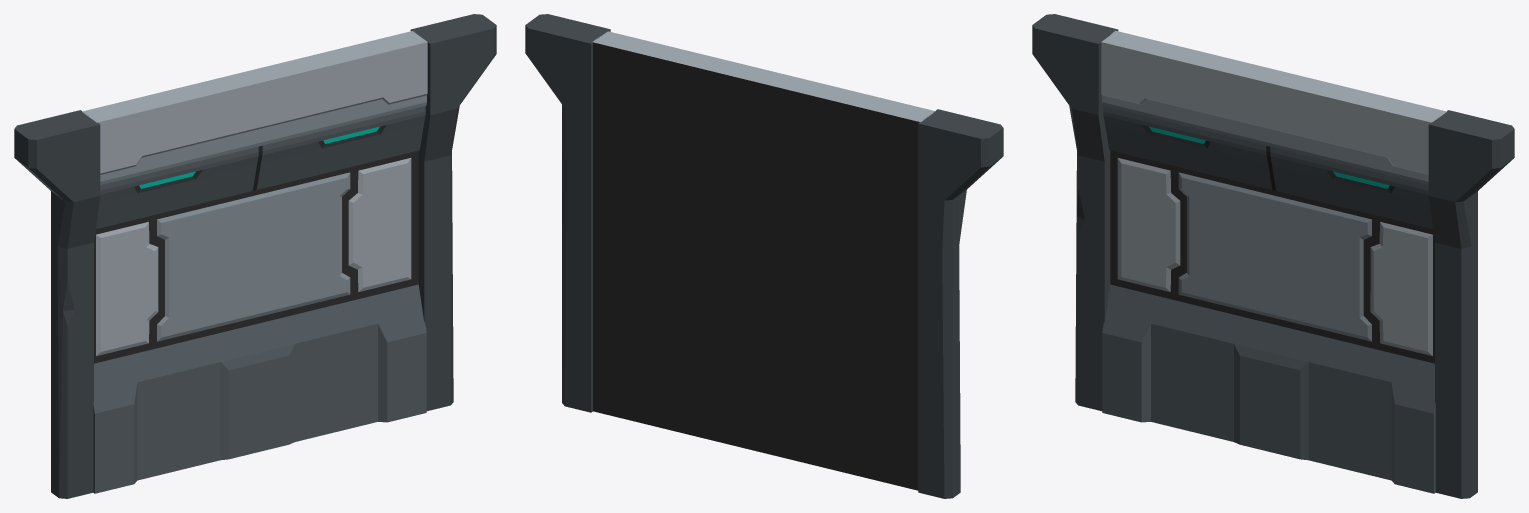
File: SM_Bld_Bridge_Rear_Wall_01.fbx
3 renders of one model, left to right at view 1: azimuth 30°, elevation 25°; view 2: azimuth 150°, elevation 25°; view 3: azimuth 330°, elevation 25°, orthographic.
Visible parts, largest first — view 1: SM_Bld_Bridge_Rear_Wall_01; view 2: SM_Bld_Bridge_Rear_Wall_01; view 3: SM_Bld_Bridge_Rear_Wall_01.
Part boxes in pixels (x1=…): SM_Bld_Bridge_Rear_Wall_01: x1=14, y1=14, x2=496, y2=498; SM_Bld_Bridge_Rear_Wall_01: x1=525, y1=14, x2=1003, y2=498; SM_Bld_Bridge_Rear_Wall_01: x1=1032, y1=14, x2=1514, y2=498.
Bounding box in the file's own units: 657 × 500 × 48.22.
Materials: 1 (1 with a texture image).
